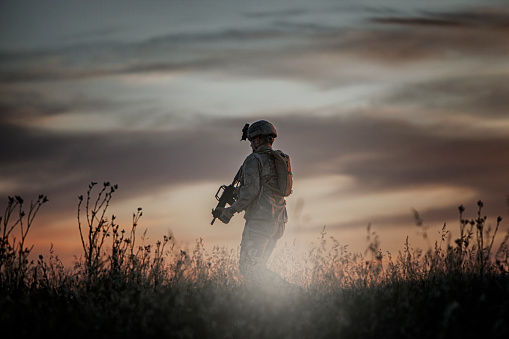gun: (209, 162, 248, 227)
